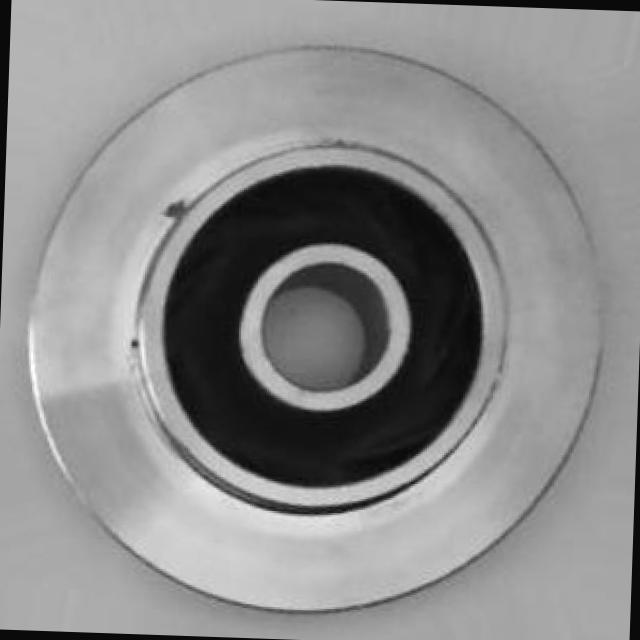Defect: (160, 195, 188, 228)
